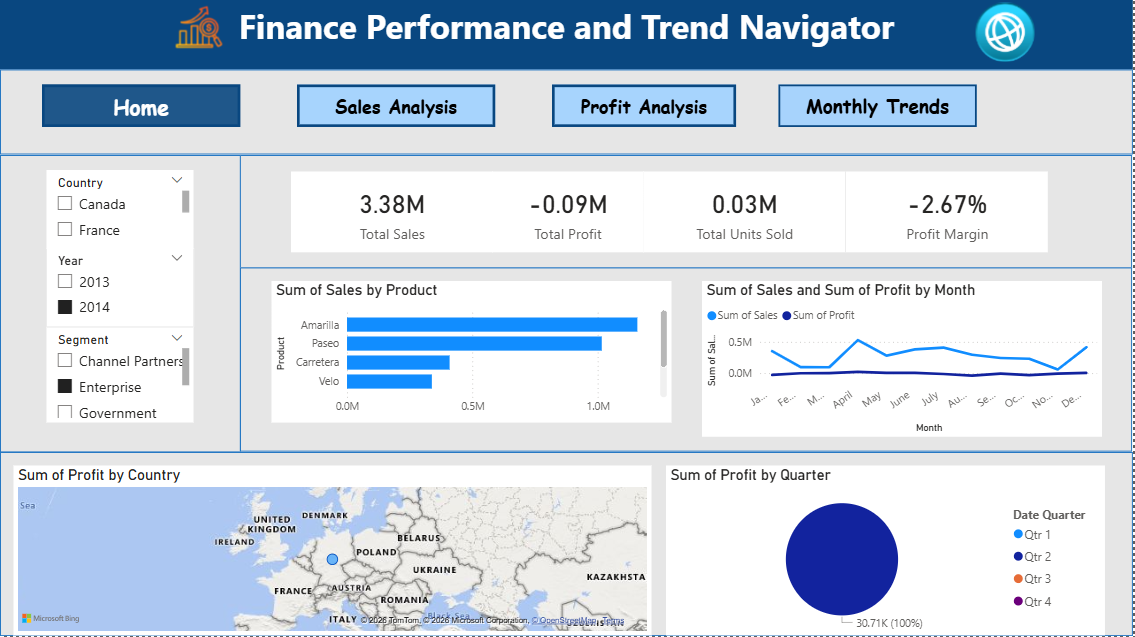

The dashboard page shown, as its layout file describes it:
{"tool":"powerbi","page":{"name":"Page2","canvas":[1280,720],"ordinal":11},"visuals":[{"type":"textbox","box":[0,0,1280,80],"z":0},{"type":"shape","box":[128,176,1152,128],"z":0,"group":"g6"},{"type":"slicer","fields":{"Values":["financials.Country"]},"box":[52.9,193.8,166.2,88.9],"z":0,"group":"g2"},{"type":"shape","box":[272,304,1008,208],"z":0,"group":"g3"},{"type":"shape","box":[0,512,1280,208],"z":0,"group":"g4"},{"type":"actionButton","box":[193.3,0,236.7,63.3],"z":1000},{"type":"slicer","fields":{"Values":["financials.Date.Variation.Date Hierarchy.Year"]},"box":[52.9,282.7,166.2,88.9],"z":1000,"group":"g2"},{"type":"clusteredBarChart","fields":{"Y":["Sum(financials.Profit)"],"Category":["financials.Product"]},"box":[306.8,320,451.9,160],"z":1000,"group":"g3"},{"type":"actionButton","box":[1097.9,0,148,74.8],"z":2000},{"type":"columnChart","fields":{"Category":["financials.Segment"],"Series":["financials.Country"],"Y":["Sum(financials.Profit)"]},"box":[793.4,320,451.9,176],"z":2000,"group":"g3"},{"type":"slicer","fields":{"Values":["financials.Segment"]},"box":[52.9,371.6,166.2,106.7],"z":2000,"group":"g2"},{"type":"donutChart","fields":{"Y":["Sum(financials.Profit)"],"Category":["financials.Segment"]},"box":[752,528,496,192],"z":2000,"group":"g4"},{"type":"group","id":"g1","title":"Group 1","box":[128,176,1152,128],"z":3000},{"type":"shape","box":[0,176,272,336],"z":4000},{"type":"card","fields":{"Values":["financials.Profit Margin"]},"box":[832,192,256,96],"z":4000,"group":"g6"},{"type":"group","id":"g2","title":"Group 4","box":[52.9,193.8,166.2,284.4],"z":5000},{"type":"group","id":"g3","title":"Group 3","box":[272,304,1008,208],"z":6000},{"type":"group","id":"g4","title":"Group 6","box":[0,512,1280,208],"z":7000},{"type":"group","id":"g5","title":"Group 7","box":[0,80,1280,96],"z":8000},{"type":"actionButton","box":[448,96,576,64],"z":9000},{"type":"actionButton","box":[48,96,224,48],"z":10000},{"type":"actionButton","box":[32,16,64,48],"z":11000},{"type":"card","fields":{"Values":["financials.Total Profit"]},"box":[480,192,224,96],"z":12000},{"type":"shape","box":[0,80,1280,96],"z":12002,"group":"g5"},{"type":"actionButton","box":[1184,16,80,48],"z":13000},{"type":"tableEx","fields":{"Values":["financials.Product","Sum(financials.Sales)","Sum(financials.Profit)","financials.Profit Margin"]},"box":[16,528,640,192],"z":14000},{"type":"group","id":"g6","title":"Group 2","box":[128,176,1152,128],"z":18007,"group":"g1"}]}

Visuals, with their boxes in screenshot pixels (x1, y1, x2, y2), scaled from the page's 1280x720 canvas onto the 1135x637 screenshot:
textbox: {"x1": 0, "y1": 0, "x2": 1134, "y2": 71}
shape: {"x1": 114, "y1": 156, "x2": 1134, "y2": 269}
slicer - financials.Country: {"x1": 47, "y1": 171, "x2": 194, "y2": 250}
shape: {"x1": 241, "y1": 269, "x2": 1134, "y2": 453}
shape: {"x1": 0, "y1": 453, "x2": 1134, "y2": 636}
actionButton: {"x1": 171, "y1": 0, "x2": 381, "y2": 56}
slicer - financials.Date.Variation.Date Hierarchy.Year: {"x1": 47, "y1": 250, "x2": 194, "y2": 329}
clusteredBarChart - Sum(financials.Profit) x financials.Product: {"x1": 272, "y1": 283, "x2": 673, "y2": 425}
actionButton: {"x1": 974, "y1": 0, "x2": 1105, "y2": 66}
columnChart - financials.Segment x financials.Country: {"x1": 704, "y1": 283, "x2": 1104, "y2": 439}
slicer - financials.Segment: {"x1": 47, "y1": 329, "x2": 194, "y2": 423}
donutChart - Sum(financials.Profit) x financials.Segment: {"x1": 667, "y1": 467, "x2": 1107, "y2": 636}
"Group 1" group: {"x1": 114, "y1": 156, "x2": 1134, "y2": 269}
shape: {"x1": 0, "y1": 156, "x2": 241, "y2": 453}
card - financials.Profit Margin: {"x1": 738, "y1": 170, "x2": 965, "y2": 255}
"Group 4" group: {"x1": 47, "y1": 171, "x2": 194, "y2": 423}
"Group 3" group: {"x1": 241, "y1": 269, "x2": 1134, "y2": 453}
"Group 6" group: {"x1": 0, "y1": 453, "x2": 1134, "y2": 636}
"Group 7" group: {"x1": 0, "y1": 71, "x2": 1134, "y2": 156}
actionButton: {"x1": 397, "y1": 85, "x2": 908, "y2": 142}
actionButton: {"x1": 43, "y1": 85, "x2": 241, "y2": 127}
actionButton: {"x1": 28, "y1": 14, "x2": 85, "y2": 57}
card - financials.Total Profit: {"x1": 426, "y1": 170, "x2": 624, "y2": 255}
shape: {"x1": 0, "y1": 71, "x2": 1134, "y2": 156}
actionButton: {"x1": 1050, "y1": 14, "x2": 1121, "y2": 57}
tableEx - financials.Product x Sum(financials.Sales): {"x1": 14, "y1": 467, "x2": 582, "y2": 636}
"Group 2" group: {"x1": 114, "y1": 156, "x2": 1134, "y2": 269}
